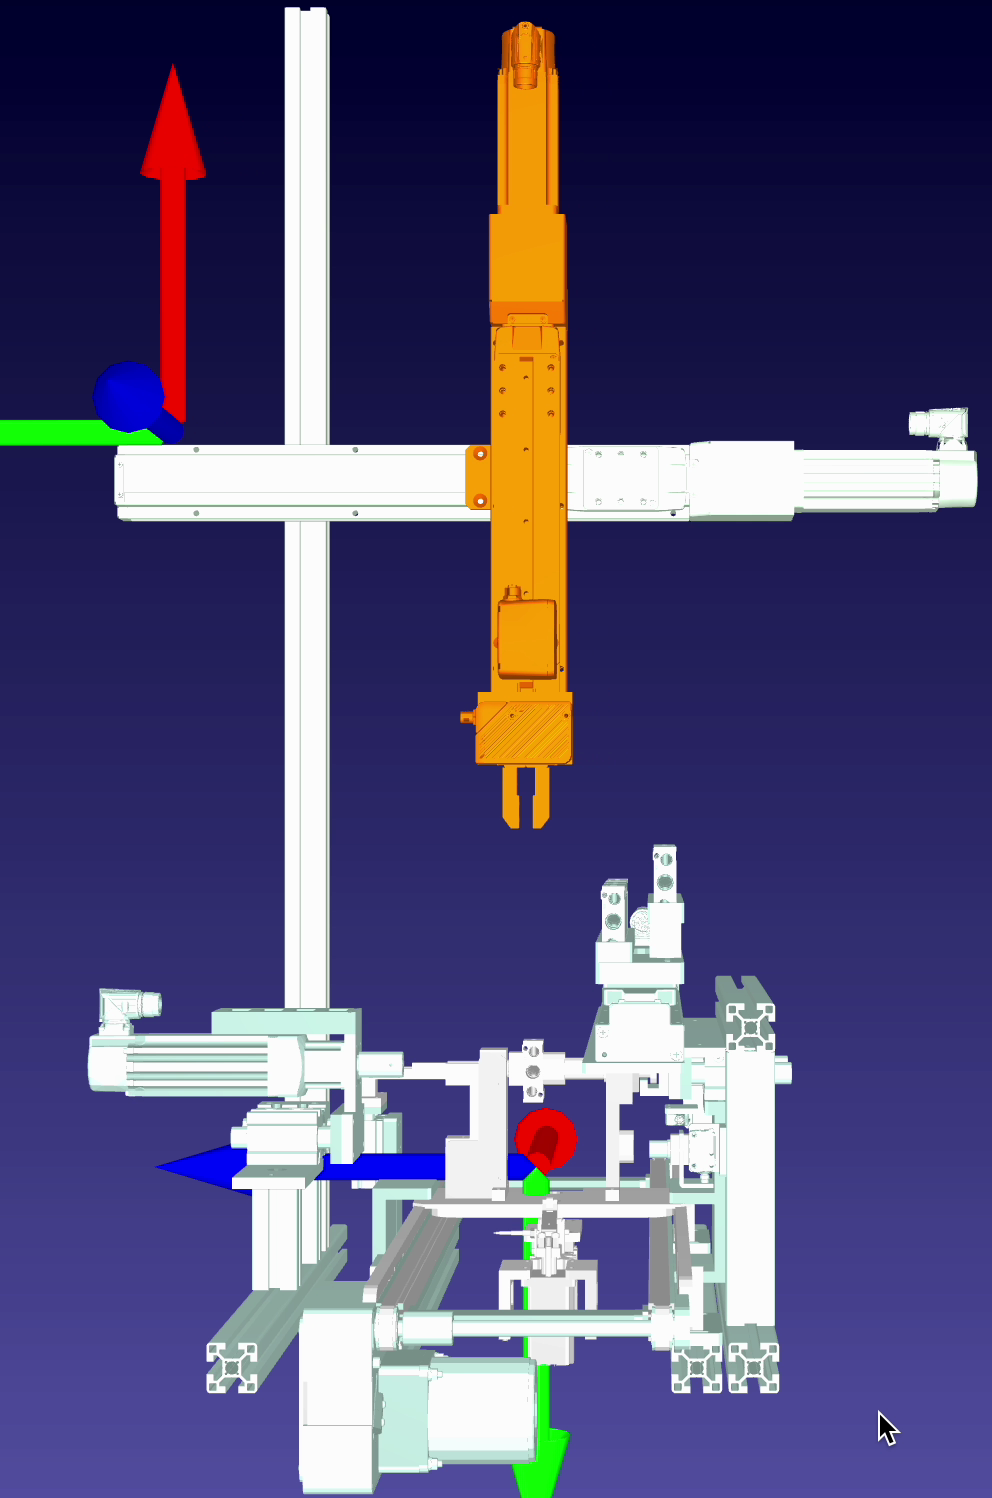Gripper: (446, 681, 588, 850)
